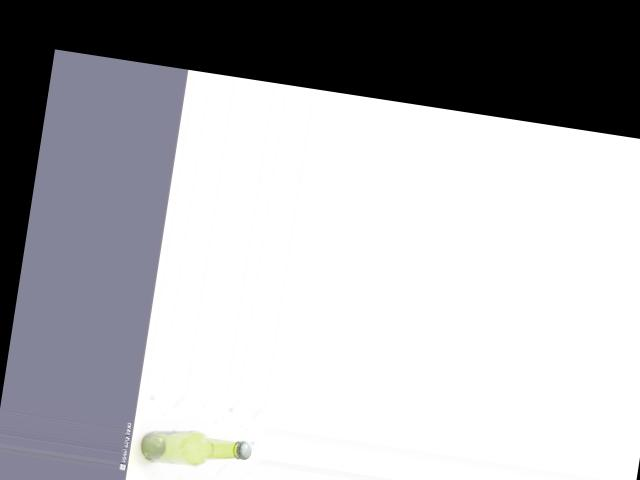beer: (139, 425, 253, 475)
